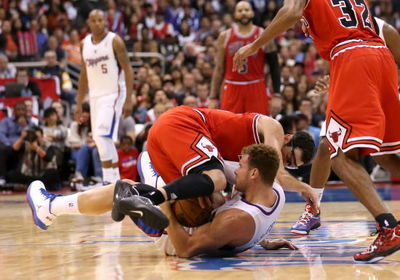10+: (1, 1, 400, 259)
down: (20, 145, 284, 257), (135, 104, 320, 188)
